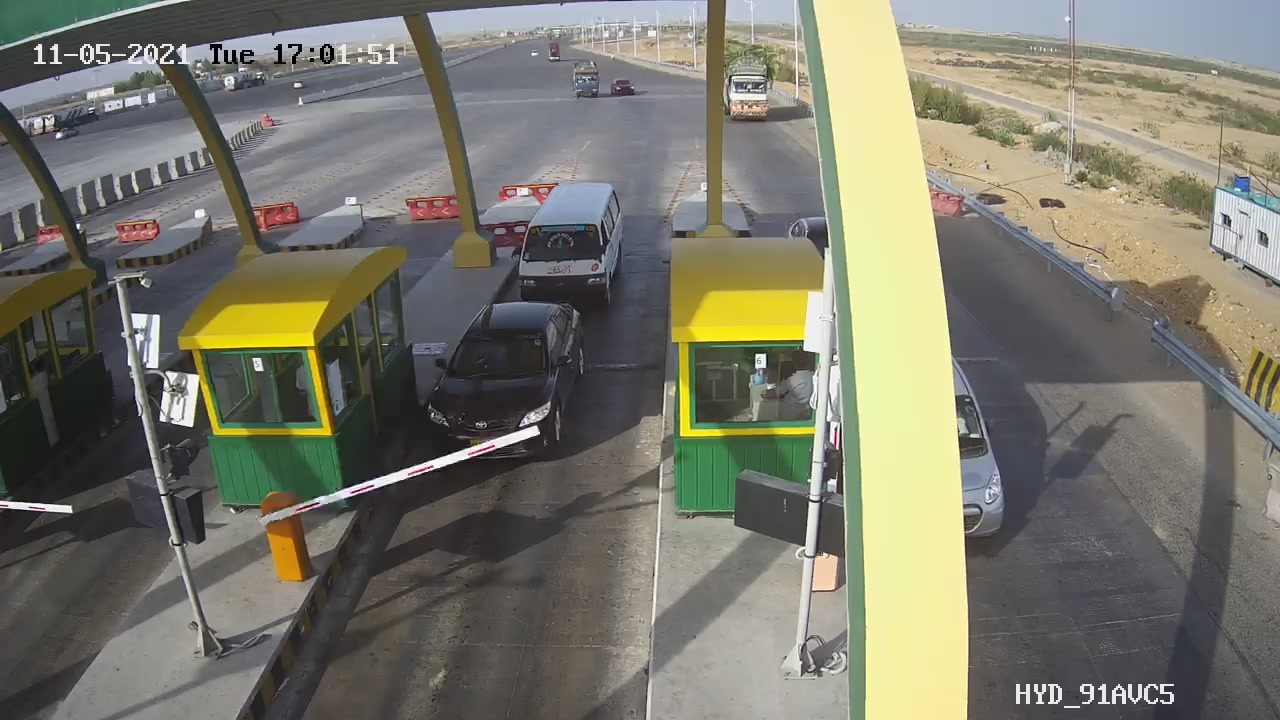F1: (394, 285, 601, 473)
F2: (507, 168, 632, 315)
